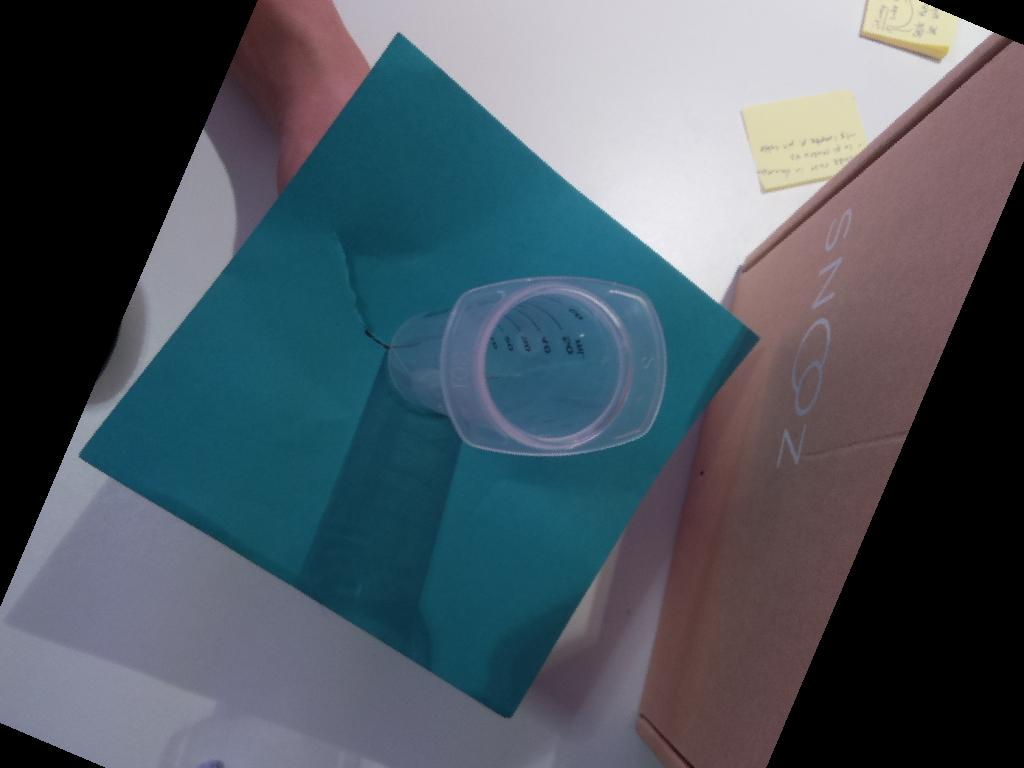clean: (437, 274, 669, 459)
